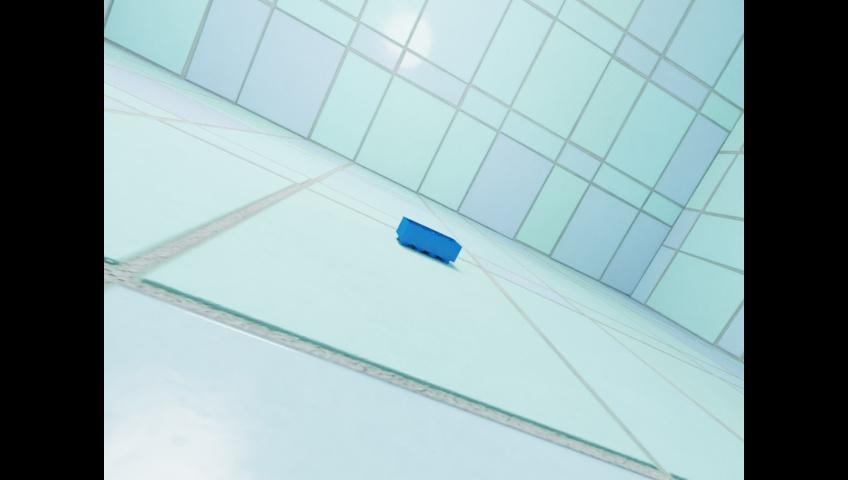4x2_blue: (395, 215, 461, 263)
